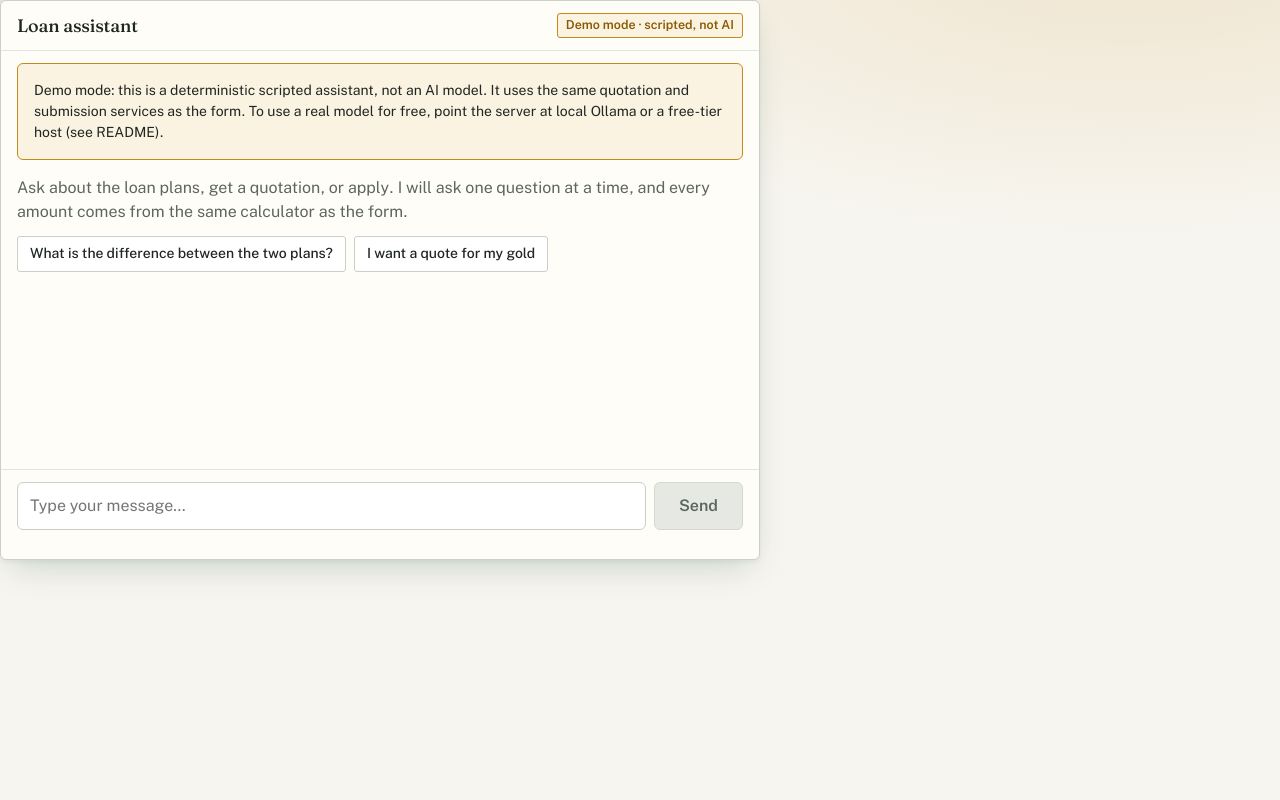
AssistantPanel › shows a review card with an explicit Confirm button; submission happens only on click
Type "apply please" into the field labelled "message" at x=332, y=506, box [17, 482, 646, 530]
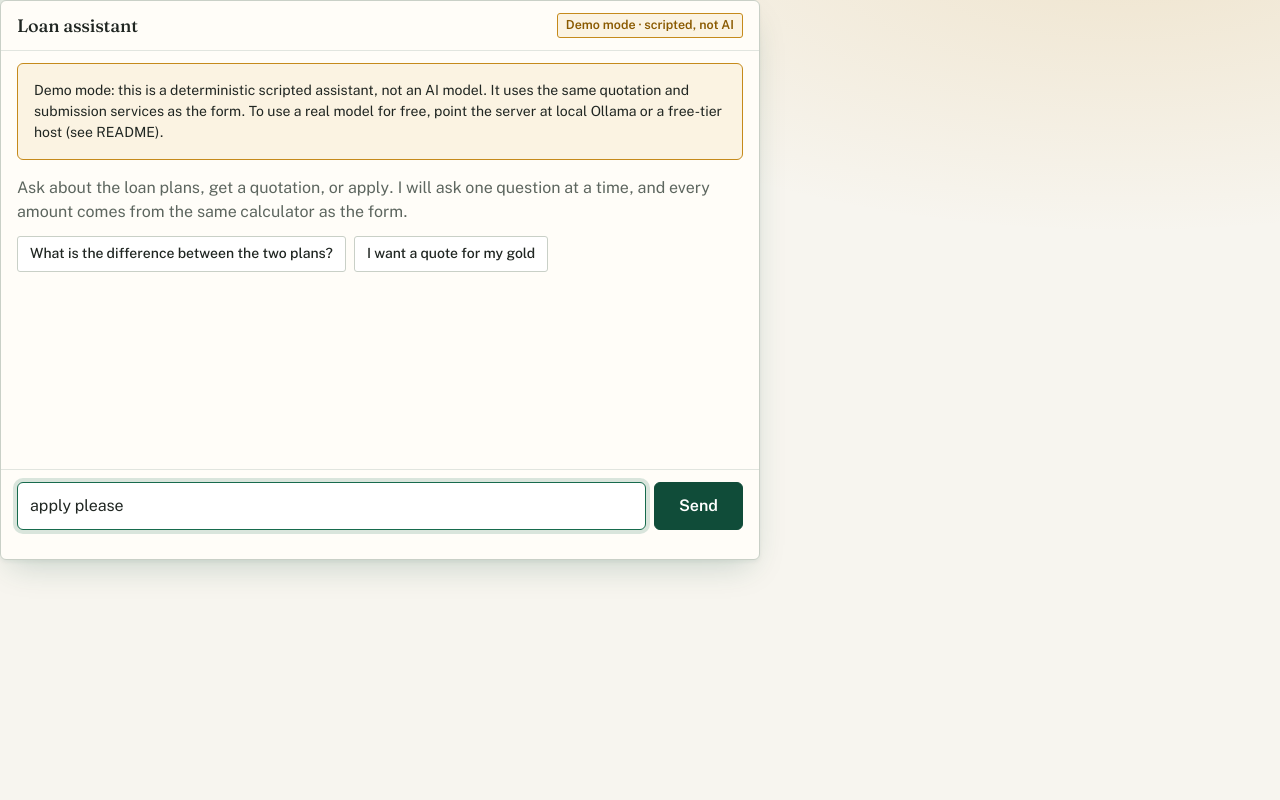
Click the button "Send" at x=698, y=506, box [654, 482, 743, 530]
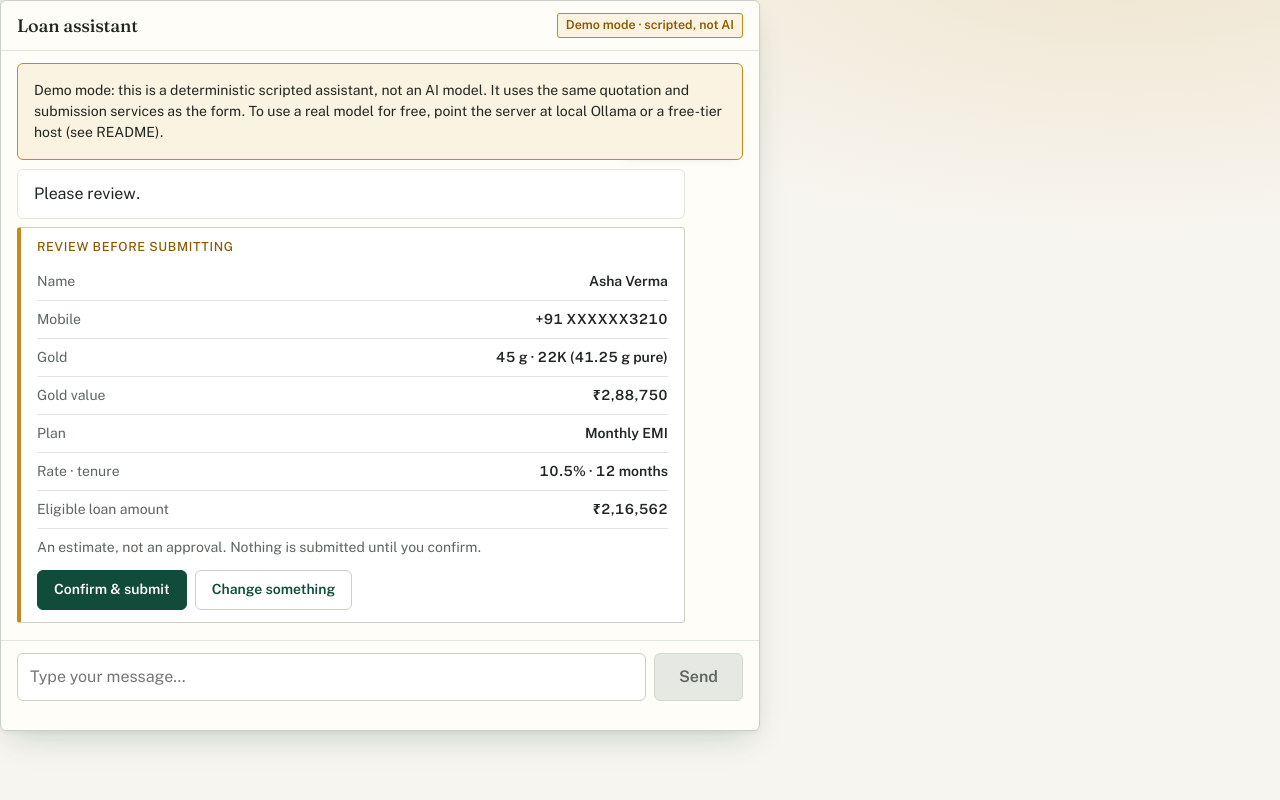
expect the text "+91 XXXXXX3210" is shown: met, box [536, 309, 668, 330]
Click the button "Confirm & submit" at x=112, y=590, box [37, 570, 187, 610]
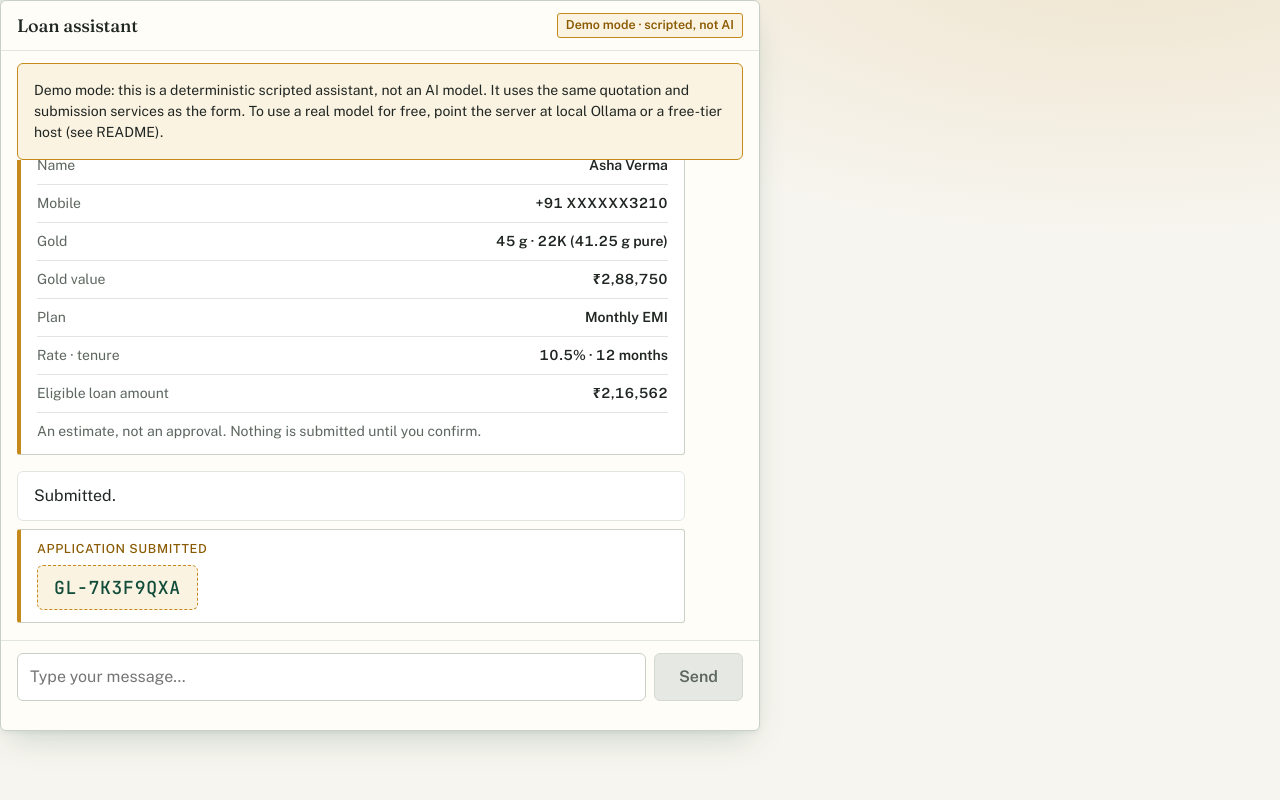
expect the text "GL-7K3F9QXA" is shown: met, box [37, 565, 198, 610]
expect the button "Confirm & submit" is gone: met
